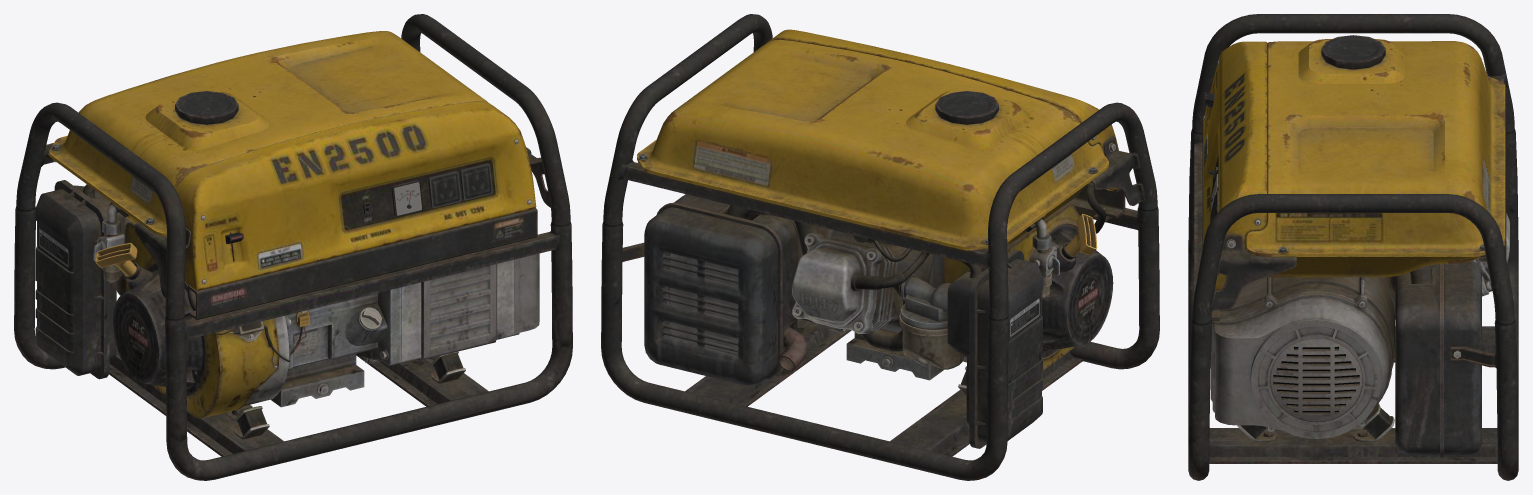
File: portable-generator.glb
3 renders of one model, left to right at view 1: azimuth 30°, elevation 25°; view 2: azimuth 150°, elevation 25°; view 3: azimuth 270°, elevation 25°, orthographic.
Parts seen in each view (by area): view 1: portable_generator; view 2: portable_generator; view 3: portable_generator.
Boxes of the visible parts, x1=… form: portable_generator: x1=14, y1=14, x2=572, y2=480; portable_generator: x1=601, y1=14, x2=1159, y2=480; portable_generator: x1=1188, y1=14, x2=1518, y2=480.
Size of the model in its own units: 0.8183 by 0.5769 by 0.564.
Materials: 2 (2 with a texture image).
